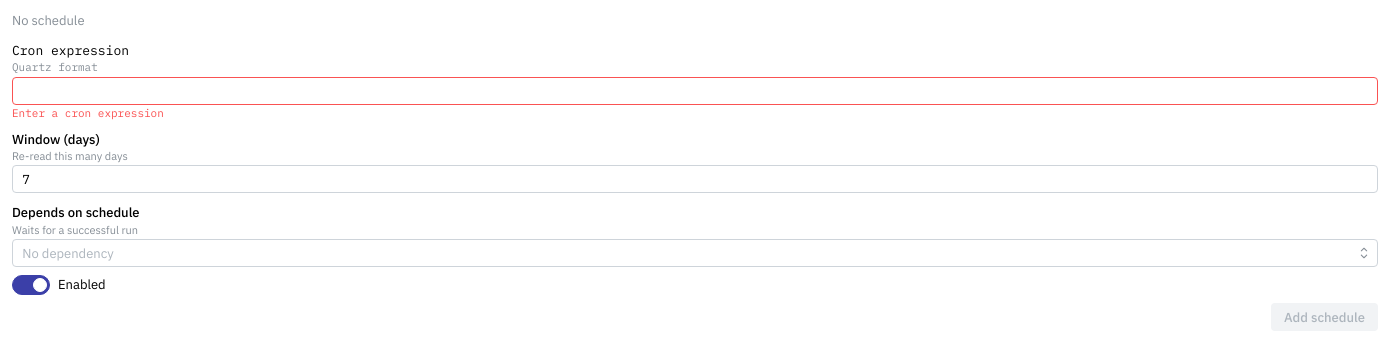
Test: CollectionScheduleTab › немає розкладу: форма створення, і POST несе рівно те, що на екрані
Check: the text "No schedule" is shown, box x1=12 y1=12 x2=84 y2=29
Check: the button "Add schedule" is disabled, box x1=1271 y1=303 x2=1378 y2=331
Type "0 30 4 ? * MON-FRI" into the field labelled "Cron expression" at coordinates (695, 90), box x1=12 y1=76 x2=1378 y2=104
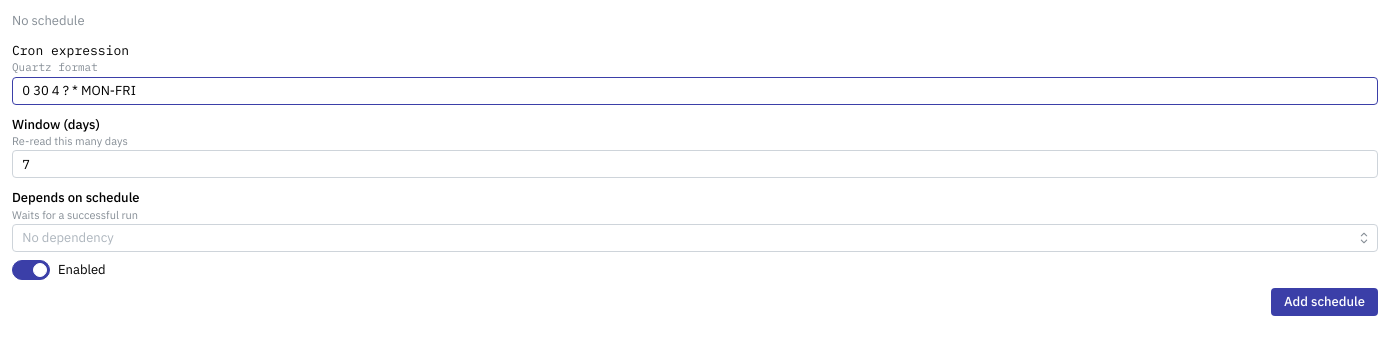
Click the switch labelled "Enabled" at coordinates (59, 270), box x1=12 y1=260 x2=106 y2=280
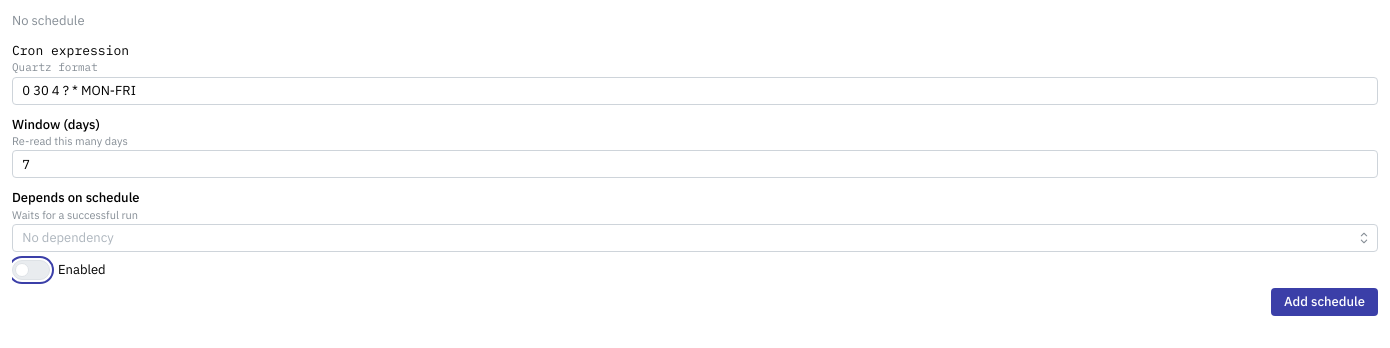
Click the button "Add schedule" at coordinates (1324, 302), box x1=1271 y1=288 x2=1378 y2=316
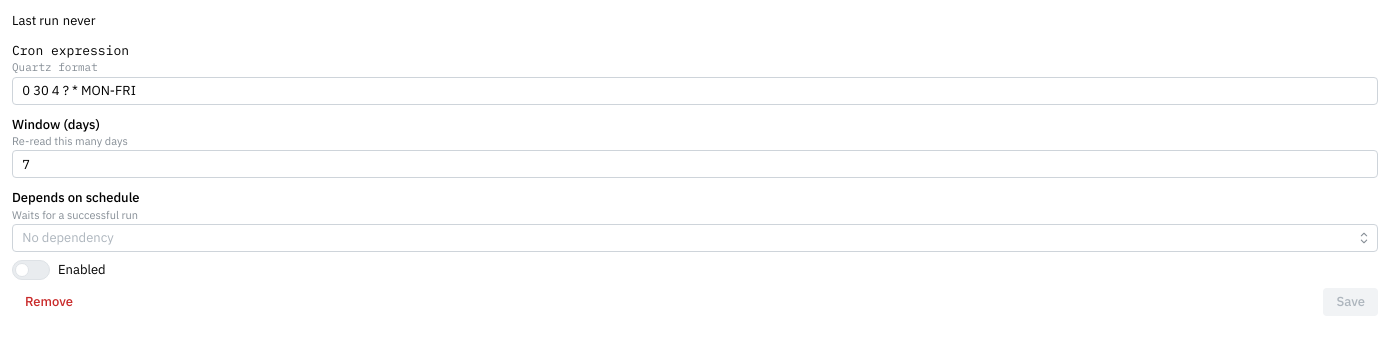
Check: the button "Save" is shown, box x1=1323 y1=288 x2=1378 y2=316
Check: the text "No schedule" is gone
